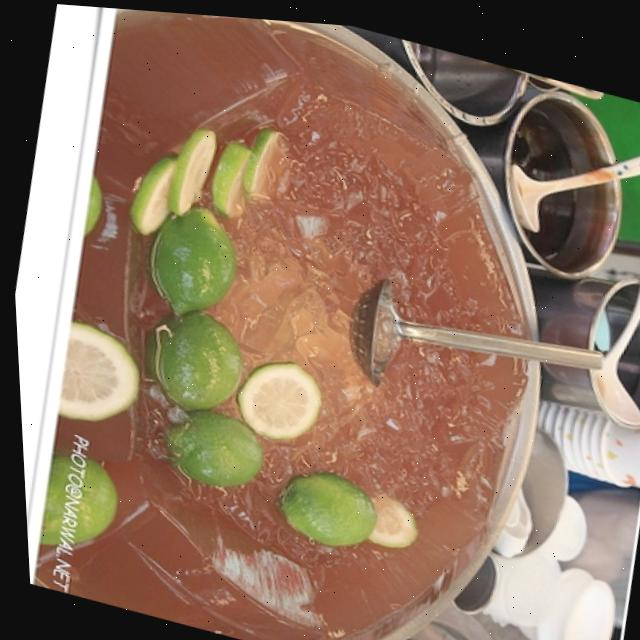蛋糕甜品: (9, 1, 629, 640)
